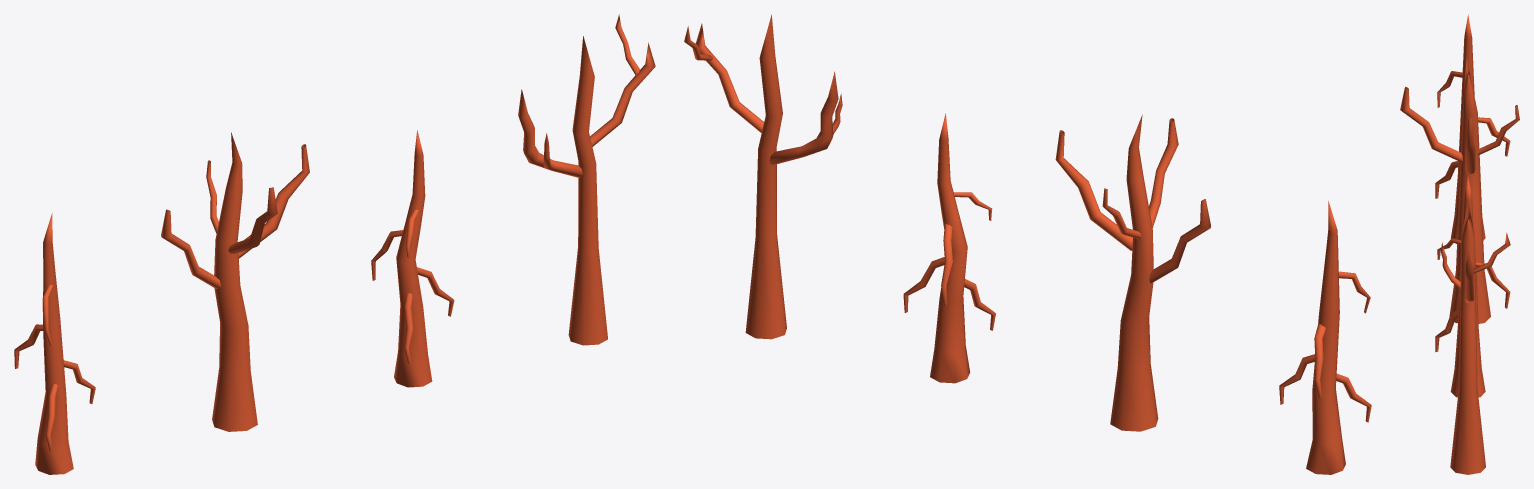
Rendered from TreesDead.fbx.
3 views of the same model, side by side, from view 1: azimuth 30°, elevation 25°; view 2: azimuth 150°, elevation 25°; view 3: azimuth 270°, elevation 25° (orthographic). The views are drawn at different scales.
Visible parts, largest first — view 1: Tree_1_LOD0, Tree_2_LOD0, Spruce_2_LOD0, Spruce_1_LOD0; view 2: Tree_1_LOD0, Tree_2_LOD0, Spruce_1_LOD0, Spruce_2_LOD0; view 3: Tree_2_LOD0, Tree_1_LOD0, Spruce_2_LOD0, Spruce_1_LOD0.
Part boxes in pixels (<box>): Tree_1_LOD0: <box>161,132,309,431</box>; Tree_2_LOD0: <box>518,14,655,345</box>; Spruce_2_LOD0: <box>371,130,454,387</box>; Spruce_1_LOD0: <box>14,213,95,474</box>; Tree_1_LOD0: <box>1055,114,1210,431</box>; Tree_2_LOD0: <box>684,14,842,339</box>; Spruce_1_LOD0: <box>1279,201,1371,474</box>; Spruce_2_LOD0: <box>903,113,995,383</box>; Tree_2_LOD0: <box>1441,199,1510,474</box>; Tree_1_LOD0: <box>1400,57,1519,323</box>; Spruce_2_LOD0: <box>1435,175,1510,397</box>; Spruce_1_LOD0: <box>1435,14,1510,243</box>.
Size of what is drawn, in the model's own units: 722 by 334 by 136.
